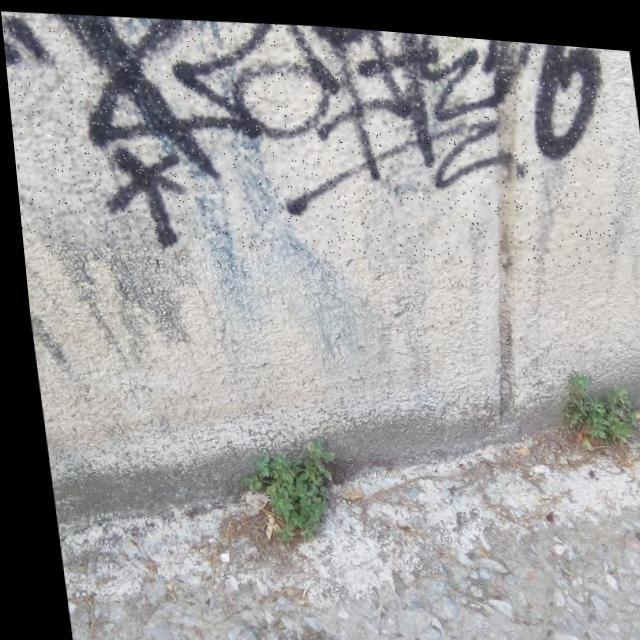-: (0, 0, 624, 281)
